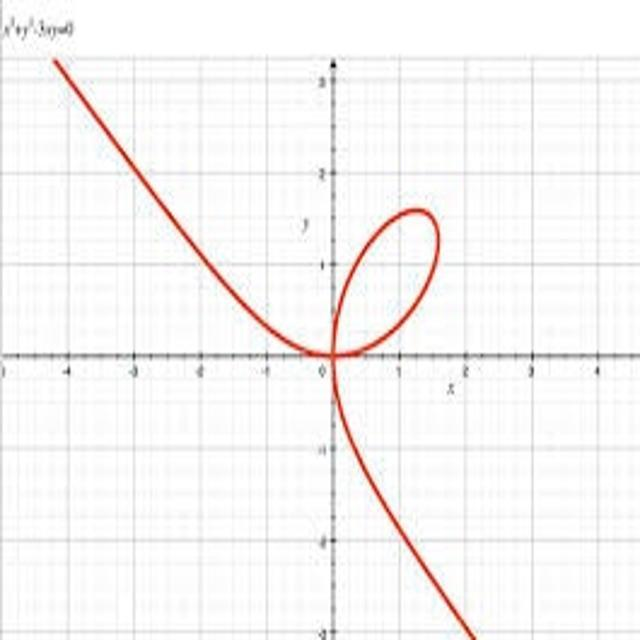axis: (0, 347, 640, 365), (327, 55, 338, 640)
line: (49, 53, 483, 639)
